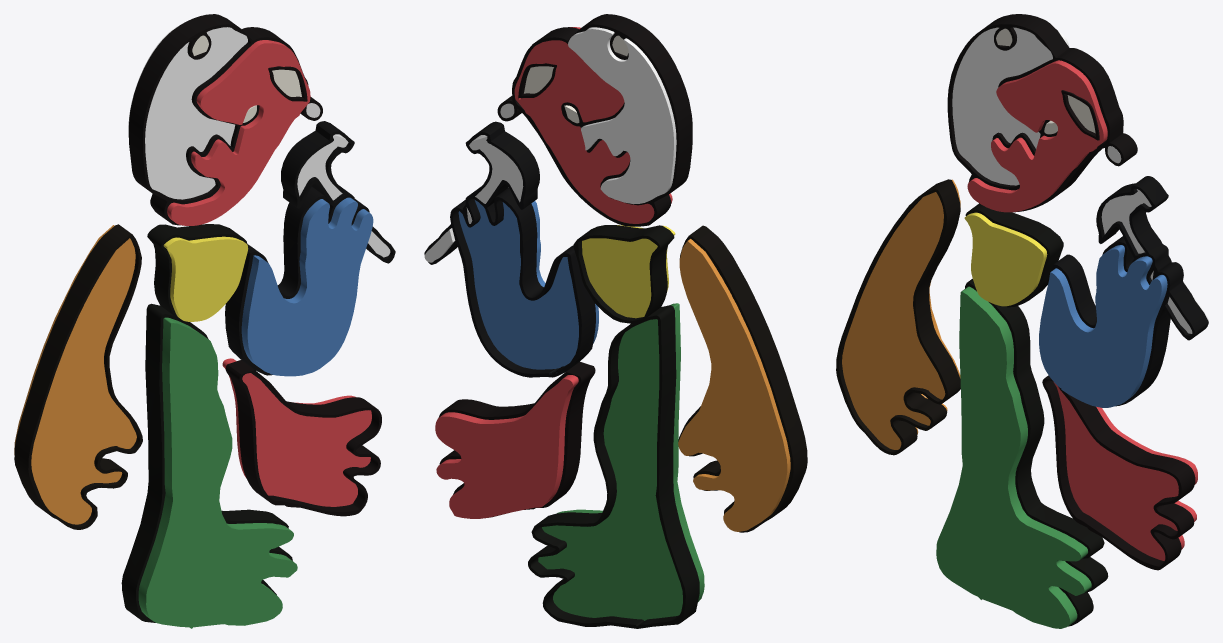
File: sequoia.glb
The picture shows the model from 3 angles, left to right: view 1: azimuth 30°, elevation 25°; view 2: azimuth 150°, elevation 25°; view 3: azimuth 330°, elevation 25°; orthographic projection. The views are drawn at different scales.
Visible parts, largest first — view 1: Shape 23, Shape 2, Shape 4, Shape 15, Shape 13, Shape 22, Shape 16, Shape 1, Shape 14, Shape 3, Shape 12, Shape 0 (+2 smaller); view 2: Shape 23, Shape 2, Shape 22, Shape 13, Shape 4, Shape 16, Shape 3, Shape 15, Shape 14, Shape 1, Shape 0, Shape 12 (+2 smaller); view 3: Shape 23, Shape 2, Shape 4, Shape 15, Shape 13, Shape 22, Shape 16, Shape 3, Shape 1, Shape 12, Shape 14, Shape 0 (+2 smaller).
Boxes of the visible parts, x1=… form: Shape 23: x1=138, y1=317, x2=297, y2=628; Shape 2: x1=14, y1=225, x2=136, y2=524; Shape 4: x1=241, y1=197, x2=373, y2=376; Shape 15: x1=167, y1=40, x2=310, y2=225; Shape 13: x1=222, y1=358, x2=371, y2=506; Shape 22: x1=121, y1=224, x2=292, y2=622; Shape 16: x1=128, y1=26, x2=247, y2=199; Shape 1: x1=14, y1=224, x2=142, y2=529; Shape 14: x1=128, y1=14, x2=322, y2=225; Shape 3: x1=225, y1=121, x2=395, y2=375; Shape 12: x1=225, y1=360, x2=381, y2=516; Shape 0: x1=163, y1=236, x2=248, y2=321; Shape 23: x1=538, y1=303, x2=704, y2=620; Shape 2: x1=678, y1=239, x2=790, y2=531; Shape 22: x1=528, y1=225, x2=699, y2=628; Shape 13: x1=435, y1=375, x2=578, y2=518; Shape 4: x1=458, y1=200, x2=598, y2=369; Shape 16: x1=568, y1=27, x2=676, y2=204; Shape 3: x1=424, y1=121, x2=595, y2=377; Shape 15: x1=514, y1=27, x2=672, y2=223; Shape 14: x1=497, y1=14, x2=692, y2=226; Shape 1: x1=678, y1=225, x2=807, y2=532; Shape 0: x1=582, y1=225, x2=675, y2=318; Shape 12: x1=438, y1=362, x2=595, y2=517; Shape 23: x1=936, y1=286, x2=1091, y2=628; Shape 2: x1=842, y1=179, x2=960, y2=449; Shape 4: x1=1039, y1=245, x2=1167, y2=407; Shape 15: x1=967, y1=60, x2=1107, y2=212; Shape 13: x1=1053, y1=381, x2=1197, y2=560; Shape 22: x1=965, y1=203, x2=1108, y2=626; Shape 16: x1=952, y1=21, x2=1069, y2=185; Shape 3: x1=1052, y1=176, x2=1208, y2=406; Shape 1: x1=836, y1=179, x2=960, y2=455; Shape 12: x1=1042, y1=375, x2=1195, y2=570; Shape 14: x1=947, y1=14, x2=1137, y2=212; Shape 0: x1=964, y1=212, x2=1047, y2=306.
Bounding box in the file's own units: 1.19 × 1.86 × 0.1526.
